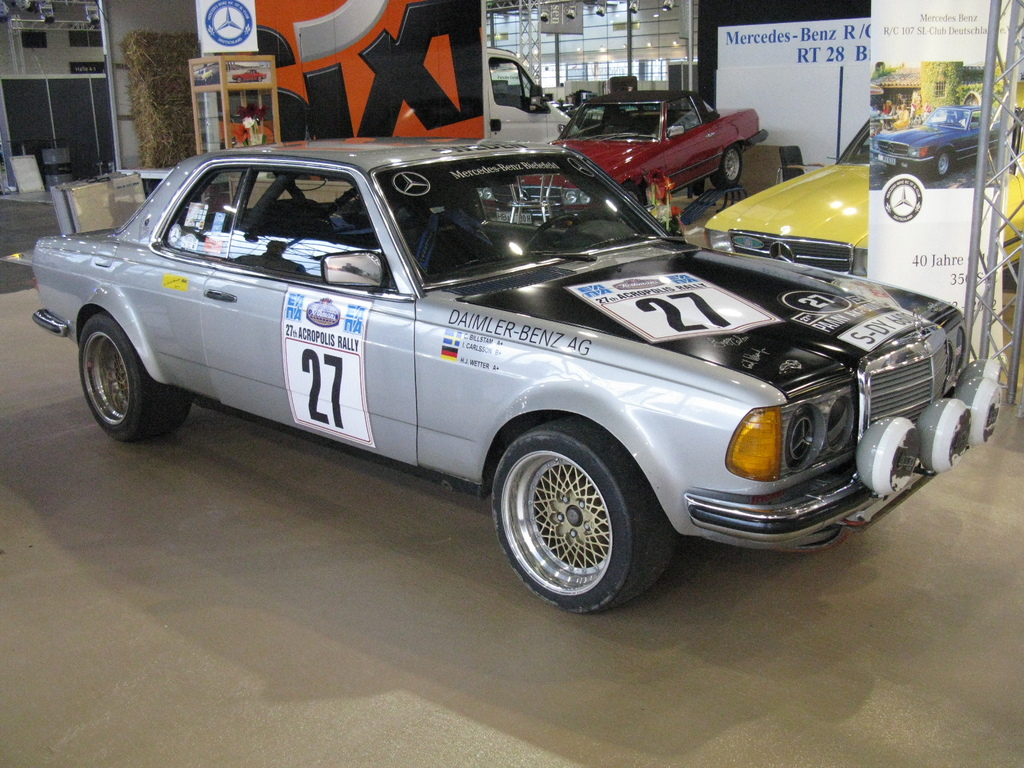Car: (40, 135, 975, 609), (706, 128, 1023, 311), (526, 97, 764, 213)
